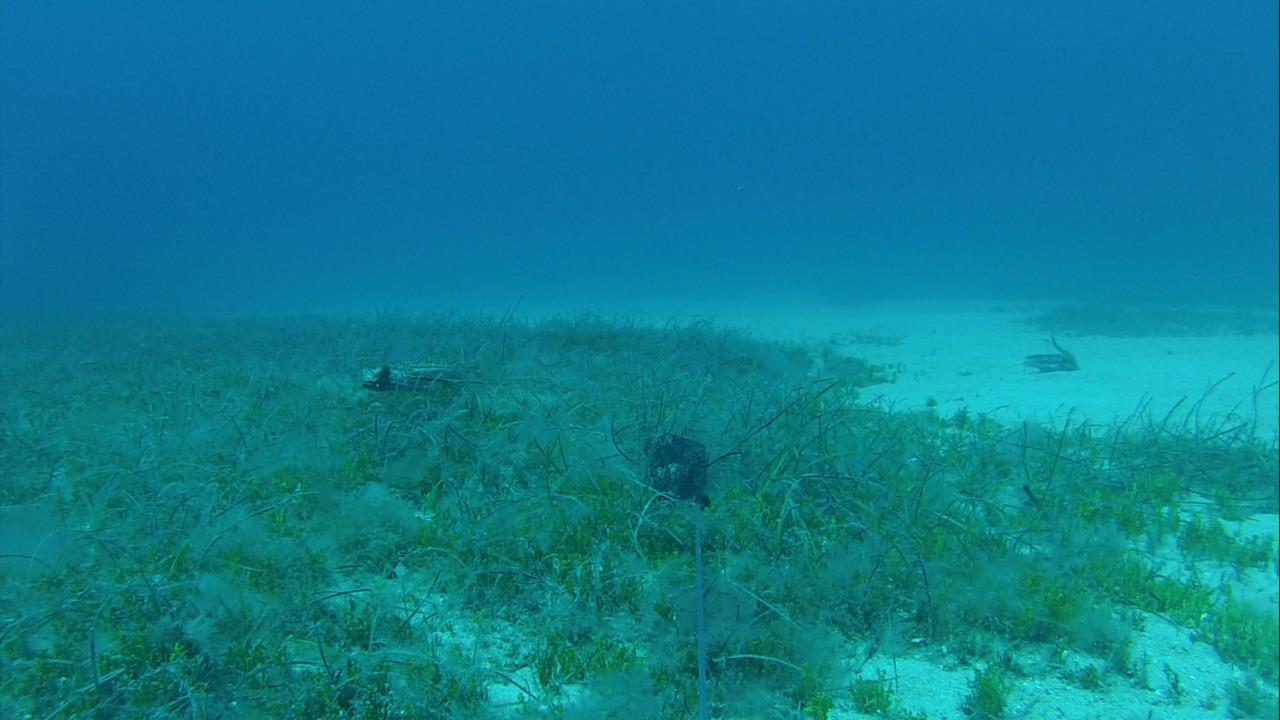dactylopterus: (347, 348, 508, 407)
